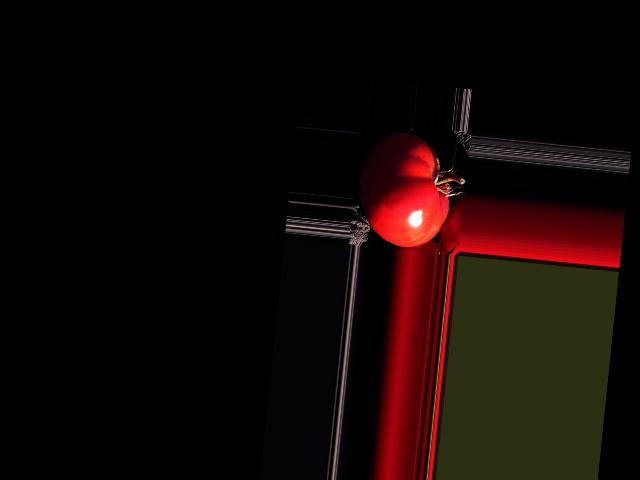tomato: (352, 128, 455, 250)
